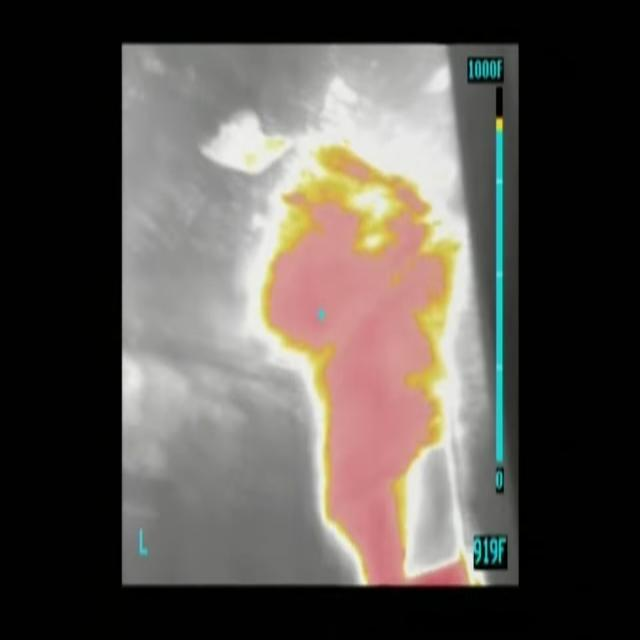fire: (261, 134, 460, 589)
